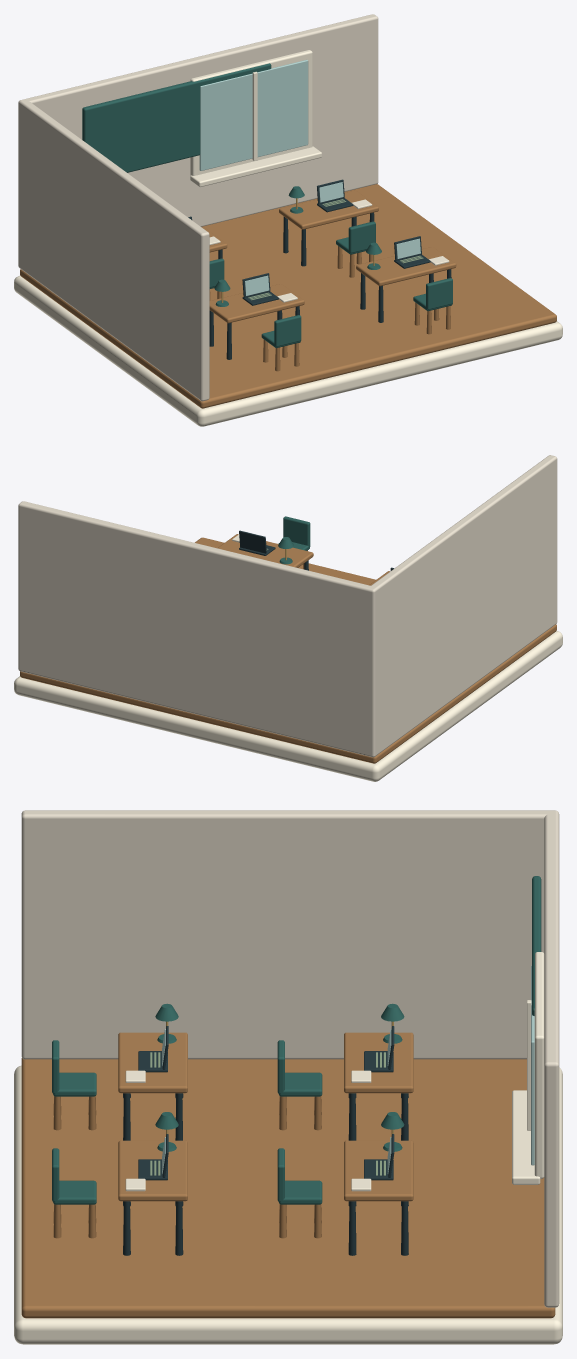
File: destination-university.glb
The picture shows the model from 3 angles, top to bottom: view 1: azimuth 30°, elevation 25°; view 2: azimuth 150°, elevation 25°; view 3: azimuth 270°, elevation 25°; orthographic projection. The views are drawn at different scales.
Visible parts, largest first — view 1: floor, side-wall, back-wall, foundation, window-glass, chalkboard, desktop (×3), back (×3), window-frame, window-sill, window-mullion; view 2: back-wall, side-wall, foundation, floor, desktop, back, display-shell; view 3: side-wall, floor, foundation, desktop (×4), back-wall, seat (×4), window-frame, window-sill, chalkboard, window-glass.
Part boxes in pixels (x1,y1,x2,y2): floor: (20,184,556,408); side-wall: (20,100,209,401); back-wall: (18,14,378,269); foundation: (14,275,562,426); window-glass: (199,59,308,170); chalkboard: (82,63,271,172); desktop (×3): (209,190,456,323); back (×3): (274,221,452,346); window-frame: (190,50,312,175); window-sill: (190,146,321,187); window-mullion: (252,71,257,160); back-wall: (18,501,377,757); side-wall: (371,455,557,754); foundation: (14,631,562,781); floor: (20,537,556,763); desktop: (217,534,313,567); back: (283,516,310,546); display-shell: (239,530,266,553); side-wall: (21,810,551,1059); floor: (21,1058,555,1318); foundation: (14,1065,562,1344); desktop (×4): (118,1032,413,1201); back-wall: (544,810,559,1307); seat (×4): (53,1072,322,1204); window-frame: (534,952,544,1178); window-sill: (512,1090,540,1184); chalkboard: (532,876,541,1015); window-glass: (531,965,534,1165).
Bounding box in the file's own units: 4.1 × 2.06 × 3.65.
